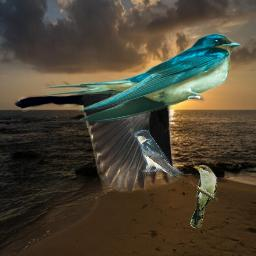Crow: (14, 77, 206, 193)
Cuckoo: (190, 165, 218, 228)
Swallow: (41, 33, 241, 123), (134, 130, 184, 179)
